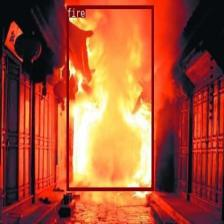fire: (66, 5, 153, 190)
